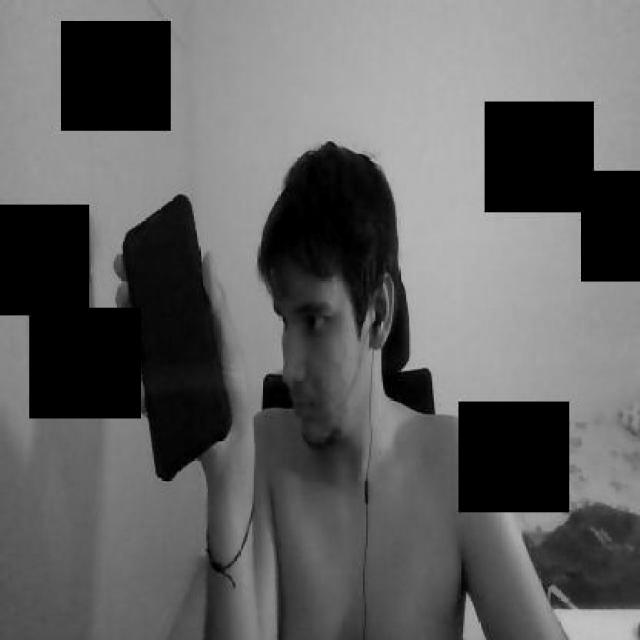fake: (117, 193, 231, 476)
